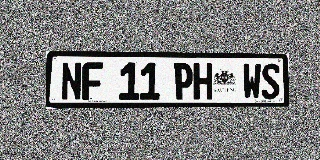1: (119, 62, 139, 100), (140, 63, 159, 100)
F: (82, 62, 103, 100)
H: (193, 63, 212, 100)
N: (61, 62, 82, 101)
P: (174, 63, 193, 100)
S: (262, 63, 280, 99)
W: (243, 63, 261, 99)
